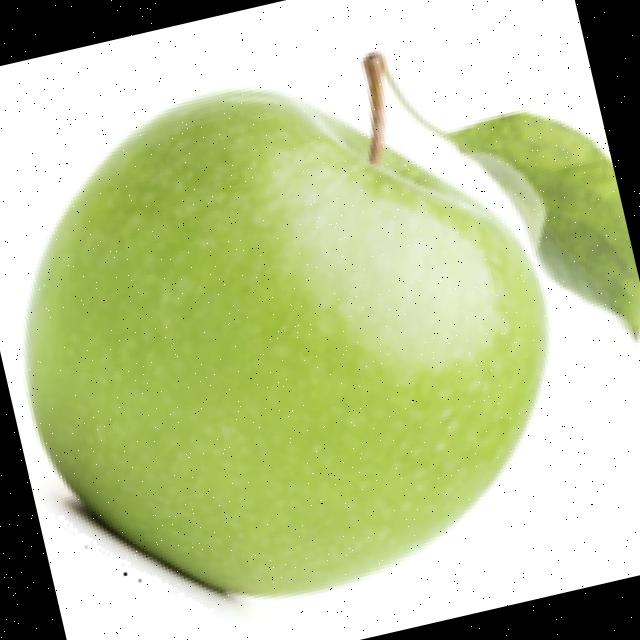apple: (19, 45, 640, 620)
